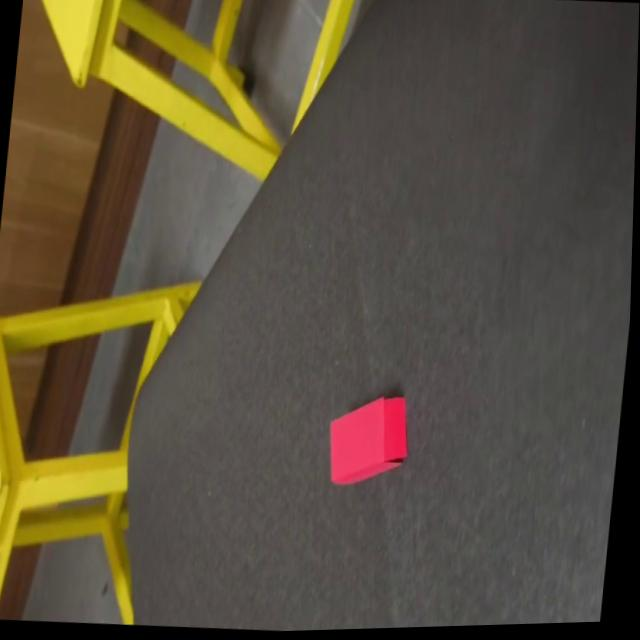red block: (321, 389, 411, 489)
